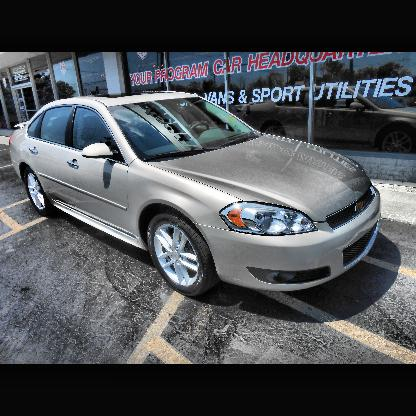Chevrolet Impala Sedan 2007: (10, 90, 385, 304)
